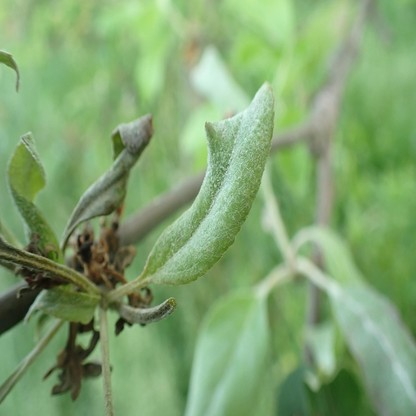powder: (137, 76, 277, 287), (61, 113, 154, 259), (7, 132, 60, 253)
